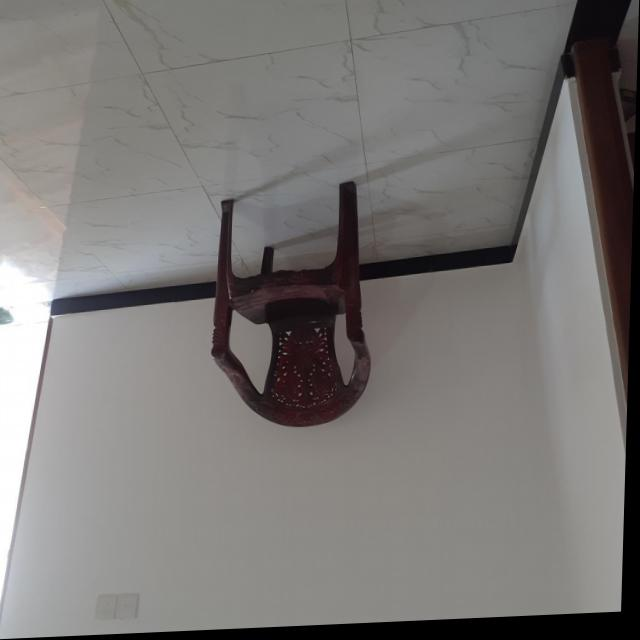Chair: (212, 182, 379, 436)
